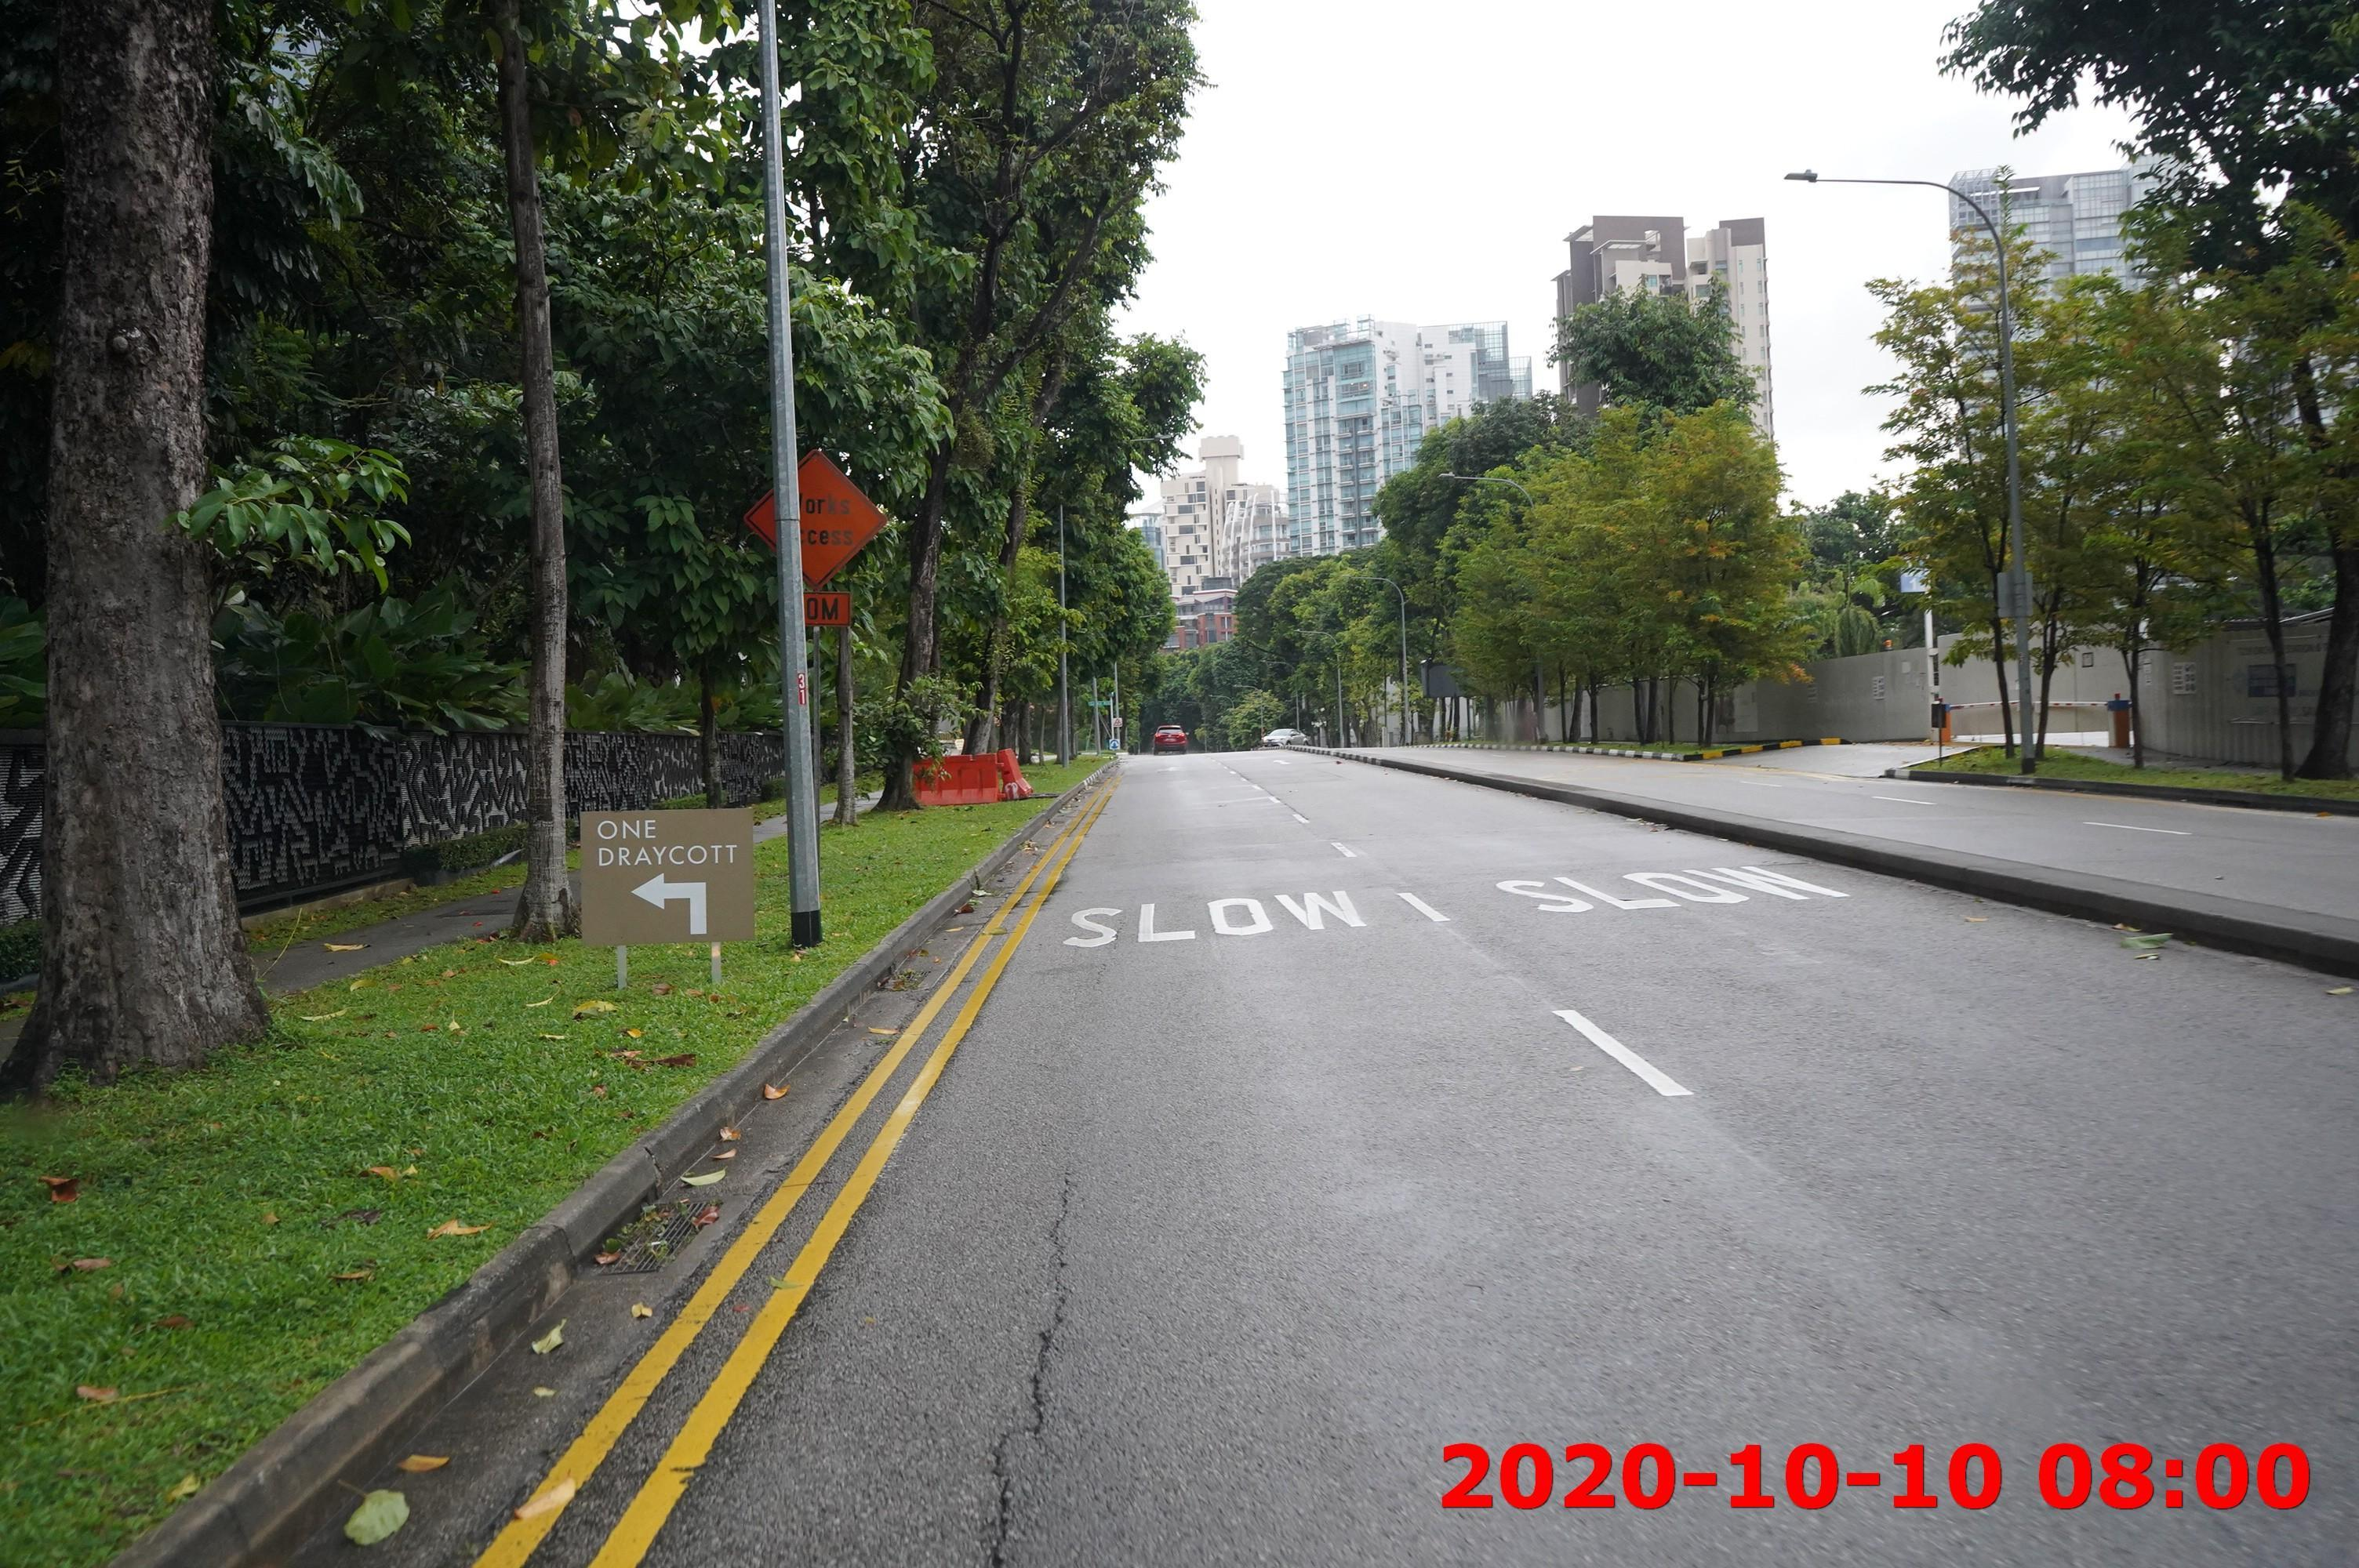single crack: (975, 1162, 1090, 1566)
